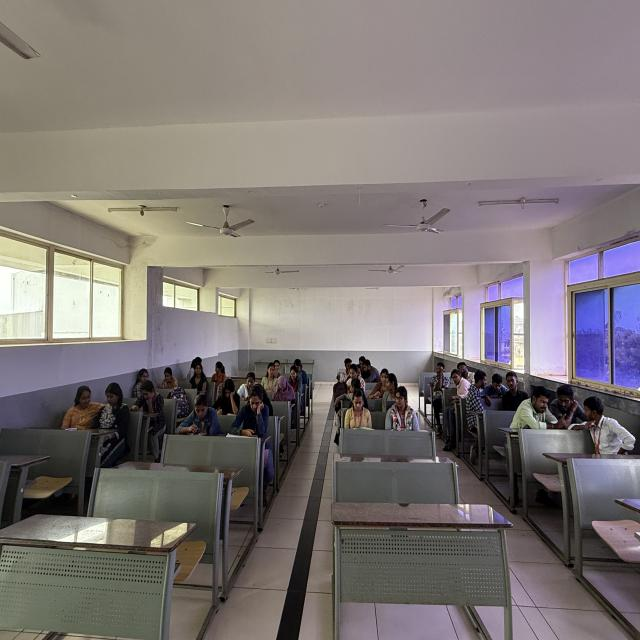Using Phone: (232, 384, 272, 443)
